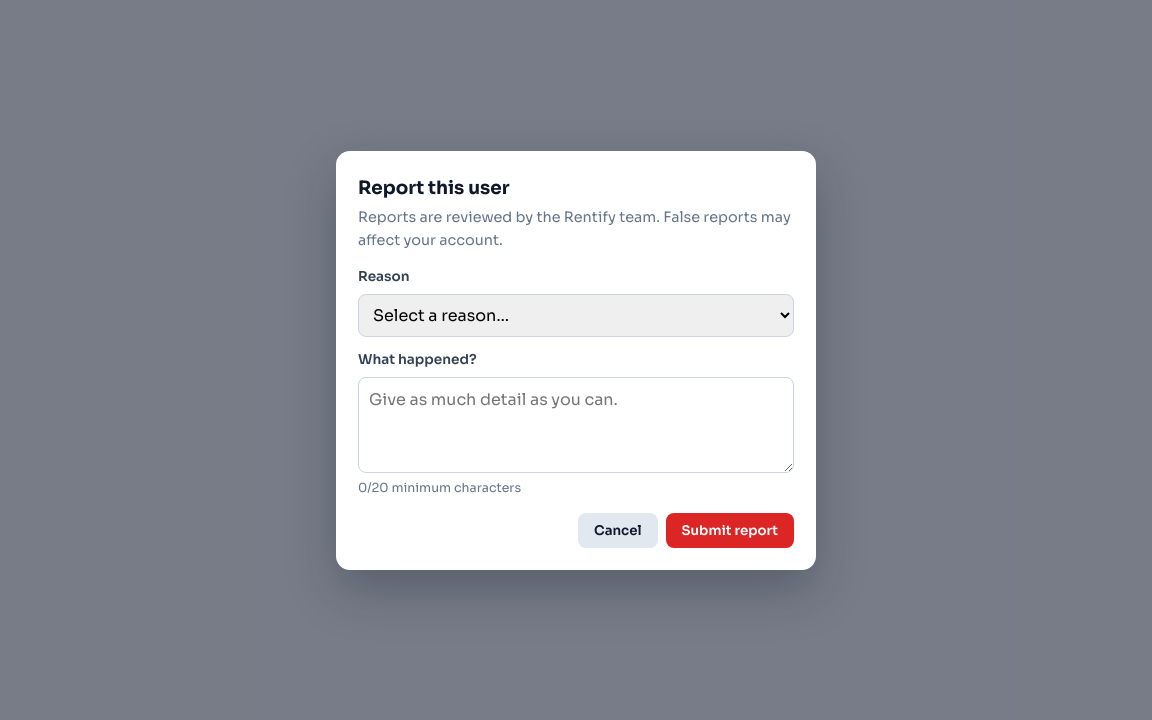
Scenario: ReportUserModal › shows the server error (e.g. duplicate report)
Select "Other" in the dropdown labelled "Reason" at (576, 315), box [358,294,794,337]
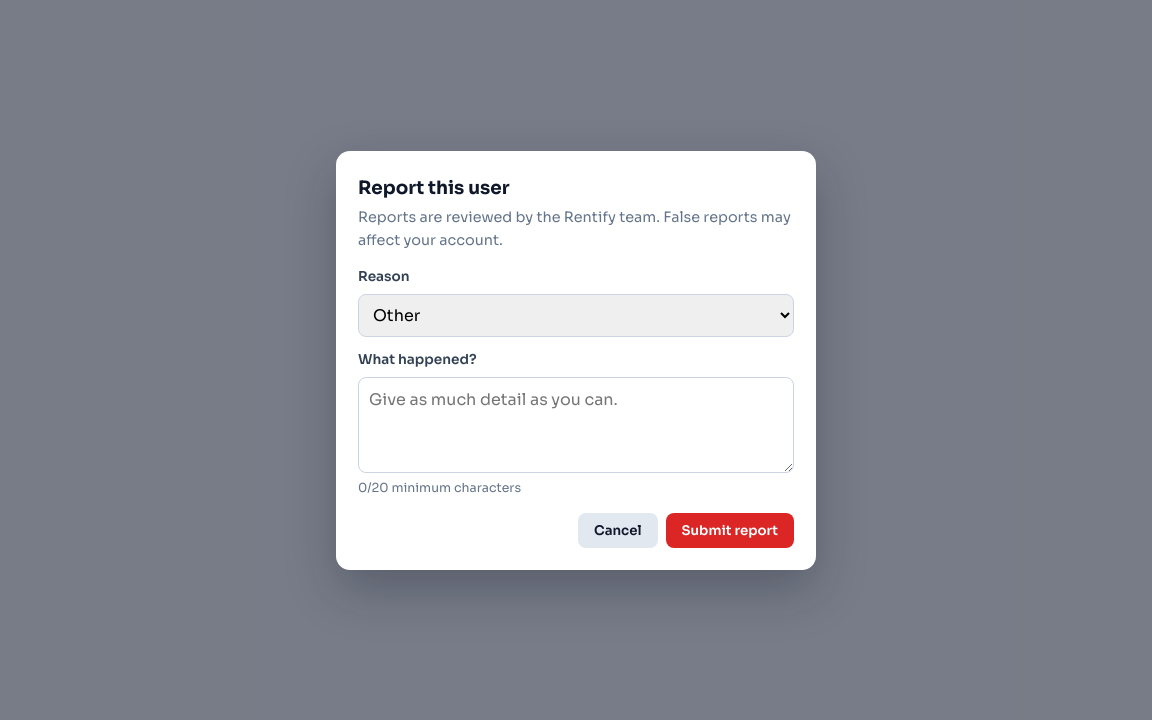
Type "A sufficiently long description here." into the text box labelled "What happened?" at (576, 424), box [358,376,794,472]
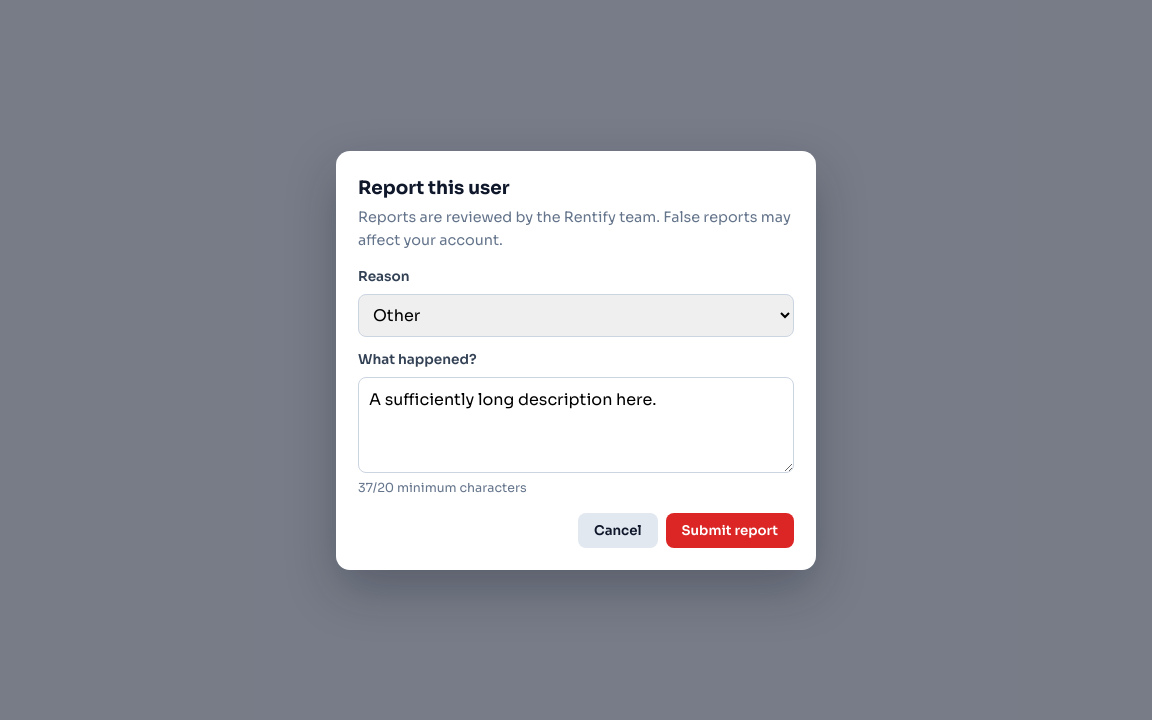
Click the button "Submit report" at (730, 530), box [666,512,794,548]
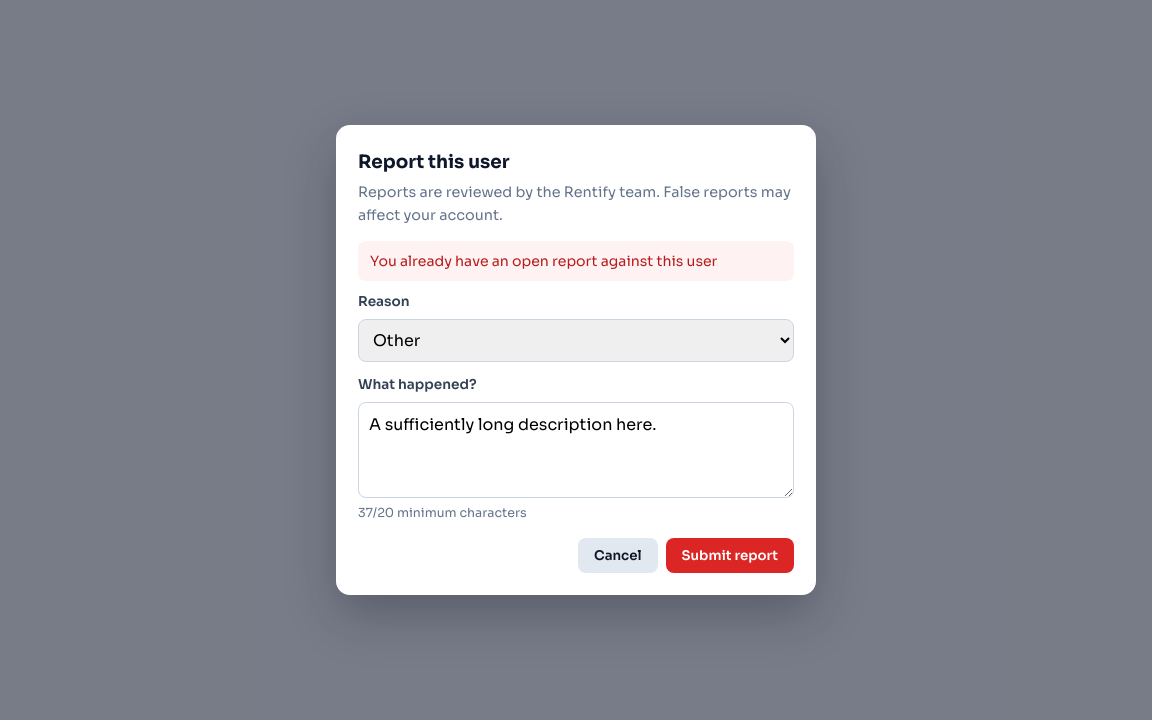
Now the message shows "already have an open report", box [370,252,717,270]
